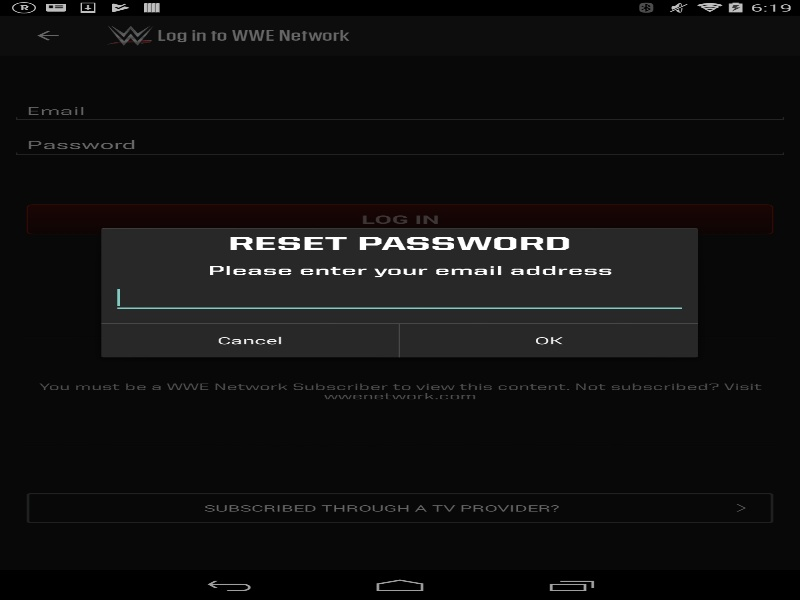Button: (400, 323, 698, 357), (101, 323, 398, 357)
Input: (112, 282, 687, 313)
